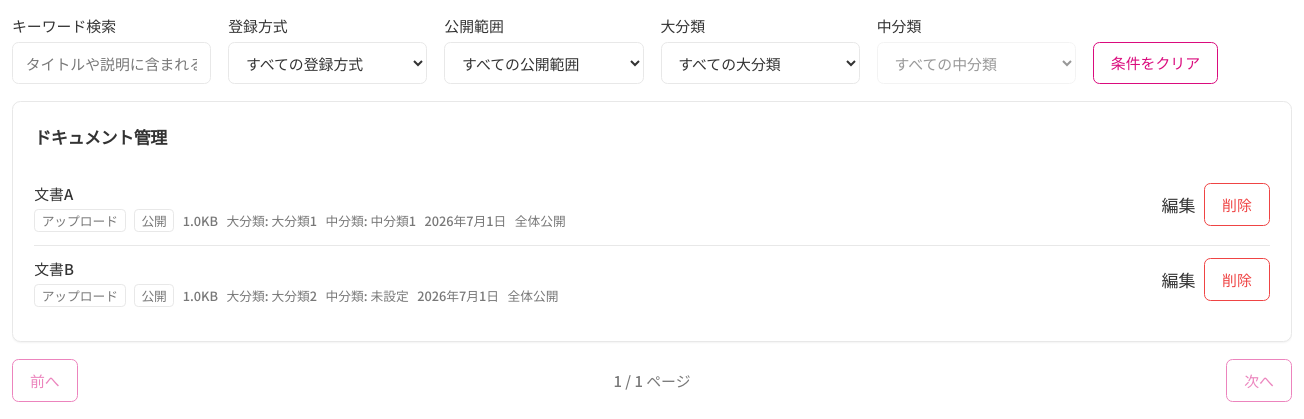
it: DocumentManagementListClient › 大分類・中分類の絞り込み › 大分類を「すべて」に戻すと中分類の絞り込みもリセットされる
The width and height of the screenshot is (1304, 419).
Select "大分類1" in the dropdown labelled "大分類" at (760, 63), box [660,42,860,84]
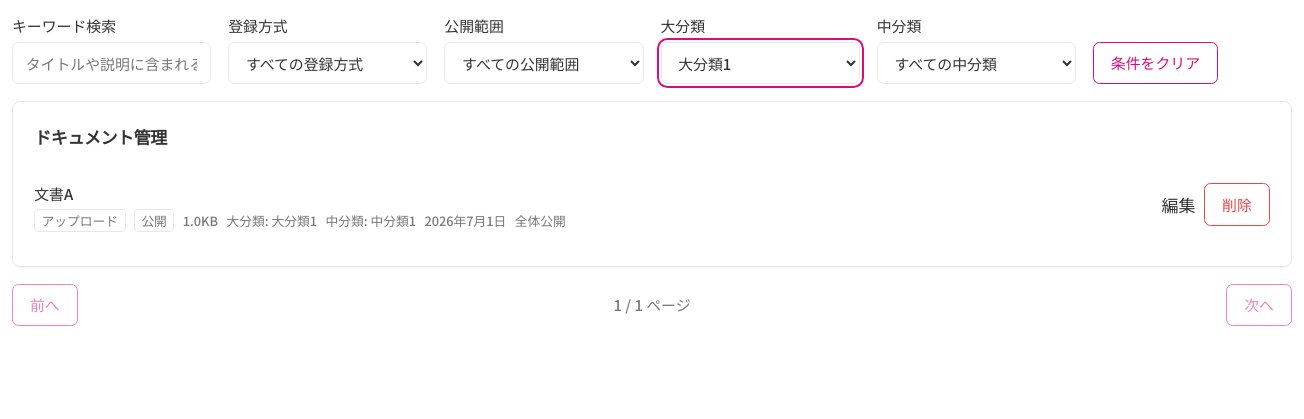
Select "中分類1" in the dropdown labelled "中分類" at (976, 63), box [877,42,1076,84]
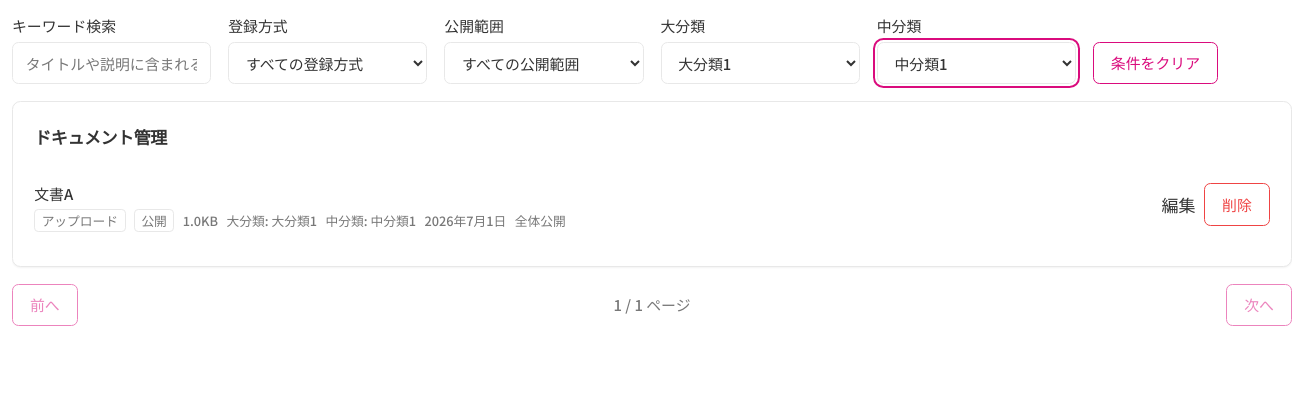
Expected: the text "文書A" is shown, [34,183,73,204]
Expected: the text "文書B" is not shown
Select "すべての大分類" in the dropdown labelled "大分類" at (760, 63), box [660,42,860,84]
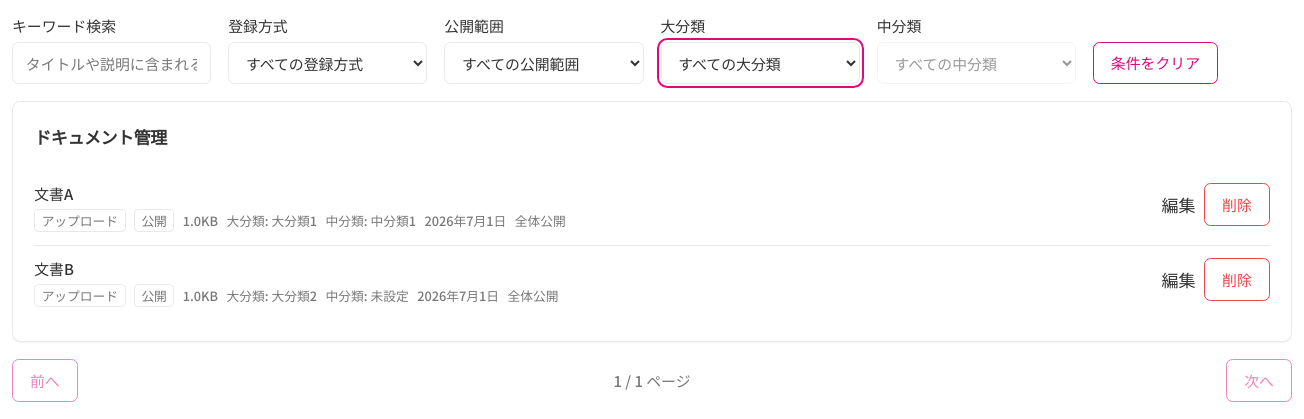
Expected: the text "文書A" is shown, [34,183,73,204]
Now the text "文書B" is shown, box [34,258,74,279]
